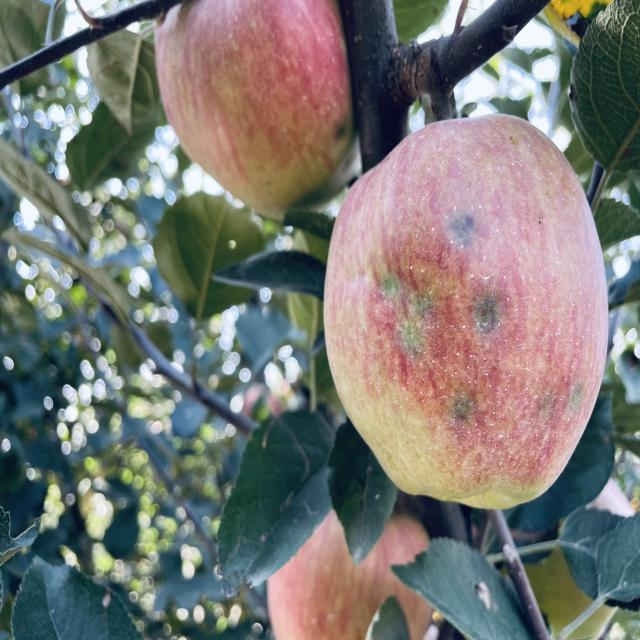Apple: (324, 117, 608, 508), (155, 0, 354, 218), (268, 510, 432, 640)
